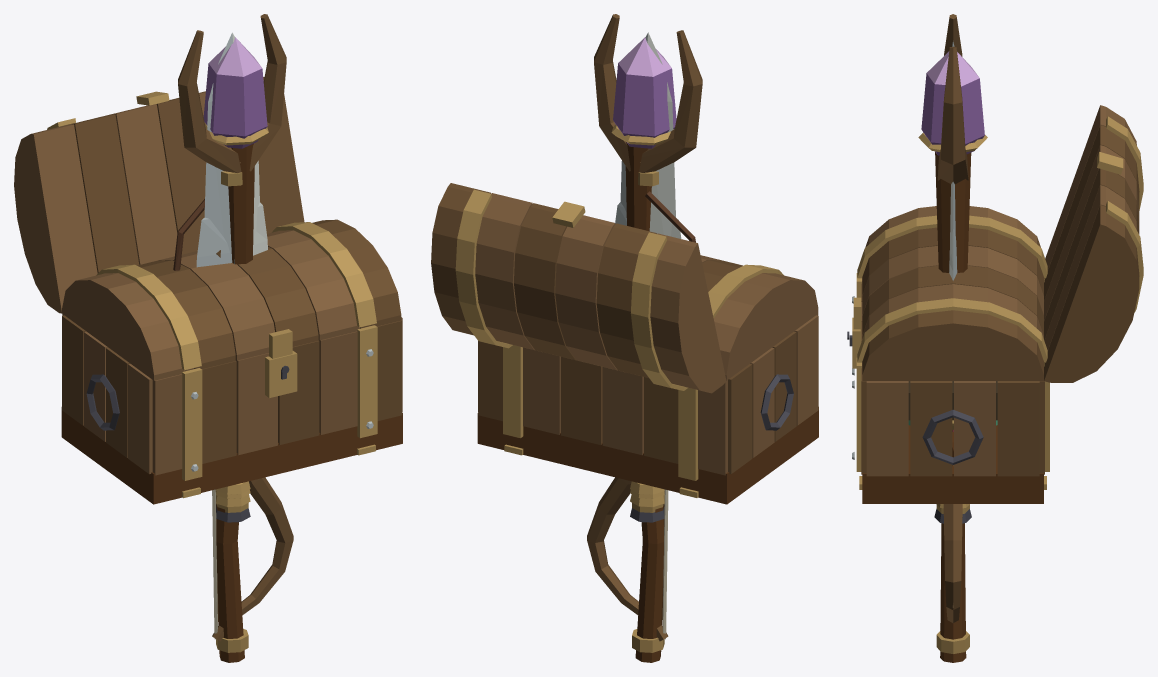
File: items.glb
3 renders of one model, left to right at view 1: azimuth 30°, elevation 25°; view 2: azimuth 150°, elevation 25°; view 3: azimuth 270°, elevation 25°, orthographic.
Visible parts, largest first — view 1: treasure_chest_closed, treasure_chest_open, weapon_staff, weapon_bow, weapon_sword_greatsword, weapon_sword_broad; view 2: treasure_chest_closed, treasure_chest_open, weapon_staff, weapon_bow, weapon_sword_greatsword; view 3: treasure_chest_closed, treasure_chest_open, weapon_staff, weapon_bow, weapon_sword_greatsword.
Boxes of the visible parts, box(x1,y1,x2,y2) form: treasure_chest_closed: box(61, 219, 402, 504); treasure_chest_open: box(14, 77, 304, 313); weapon_staff: box(173, 14, 286, 662); weapon_bow: box(212, 250, 293, 641); weapon_sword_greatsword: box(204, 32, 259, 522); weapon_sword_broad: box(196, 202, 267, 498); treasure_chest_closed: box(477, 255, 818, 504); treasure_chest_open: box(431, 183, 726, 393); weapon_staff: box(594, 14, 702, 662); weapon_bow: box(587, 477, 668, 641); weapon_sword_greatsword: box(620, 32, 675, 522); treasure_chest_closed: box(847, 206, 1049, 503); treasure_chest_open: box(908, 105, 1143, 420); weapon_staff: box(918, 14, 987, 662); weapon_bow: box(943, 504, 962, 623); weapon_sword_greatsword: box(934, 40, 971, 523).
Size of the model in its own units: 0.998 by 2.29 by 0.9773.
